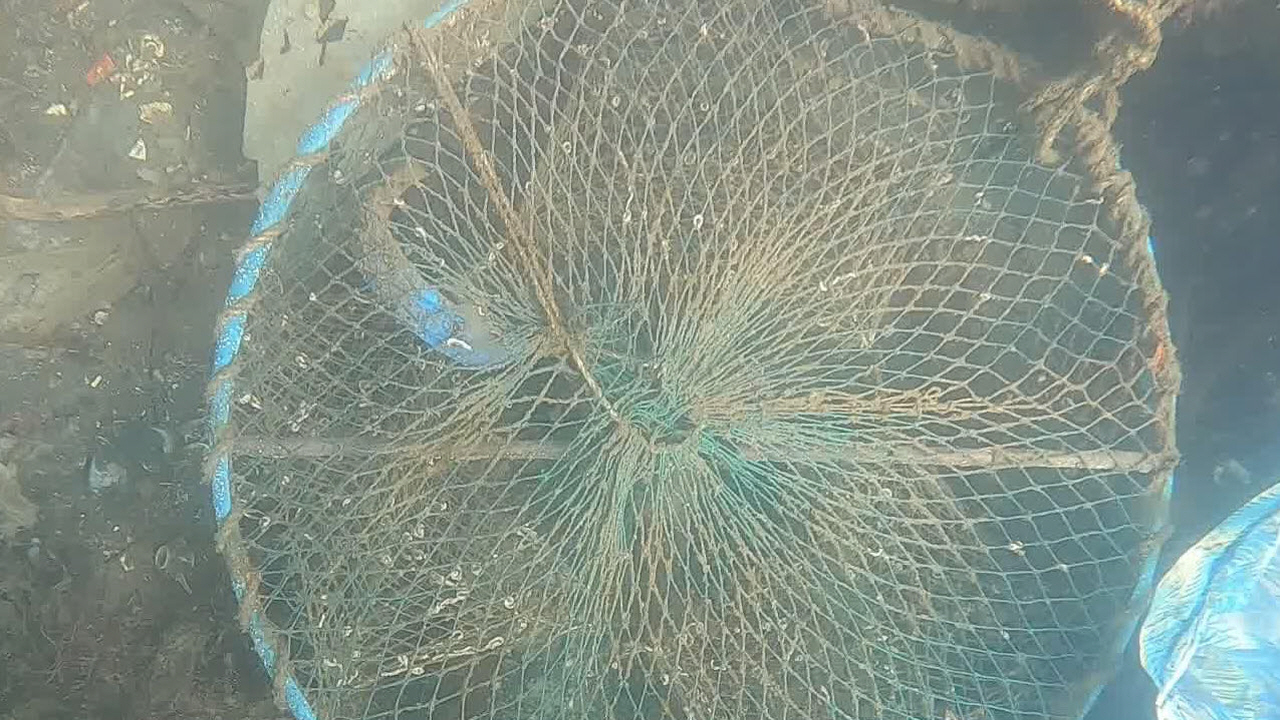bundle of ropes: (1010, 0, 1201, 166)
circular fish trap: (207, 0, 1175, 720)
